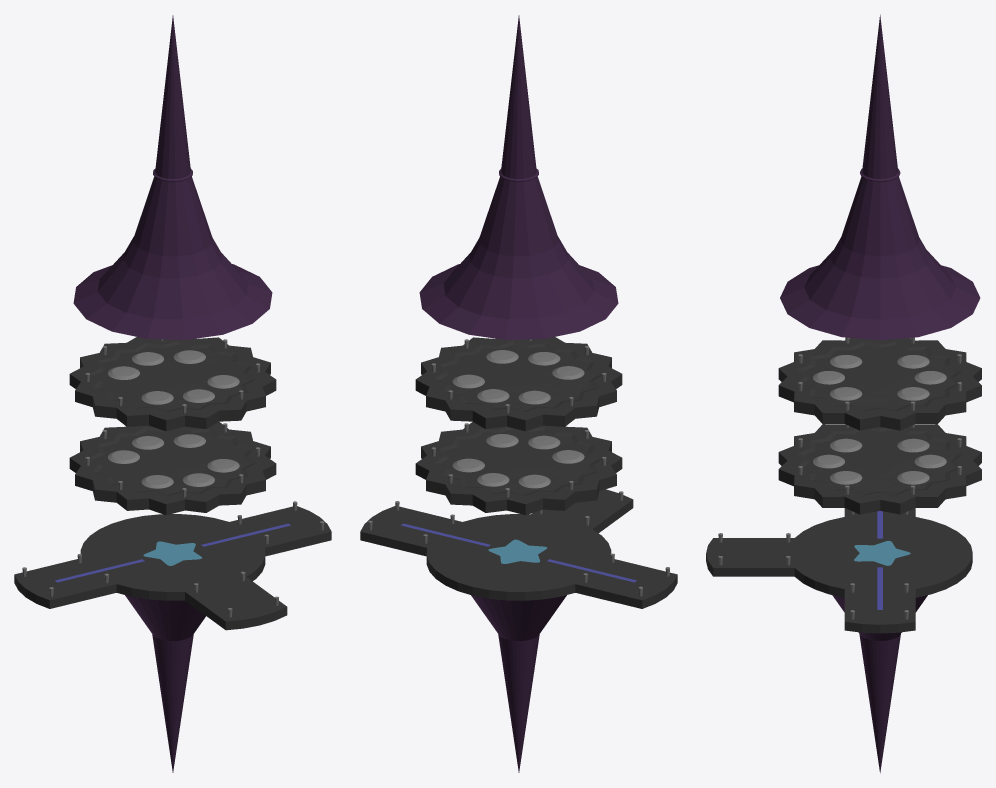
The model's file is MarioFacelessShipPlanet.obj.
3 renders of one model, left to right at view 1: azimuth 30°, elevation 25°; view 2: azimuth 150°, elevation 25°; view 3: azimuth 270°, elevation 25°, orthographic.
Parts seen in each view (by area): view 1: HubworldPlanetNEW_Collision_Circle.000; view 2: HubworldPlanetNEW_Collision_Circle.000; view 3: HubworldPlanetNEW_Collision_Circle.000.
Boxes of the visible parts, bbox=[...] form: HubworldPlanetNEW_Collision_Circle.000: bbox=[14, 15, 331, 772]; HubworldPlanetNEW_Collision_Circle.000: bbox=[360, 15, 677, 772]; HubworldPlanetNEW_Collision_Circle.000: bbox=[706, 14, 981, 773].
Bounding box in the file's own units: 4401 × 10867 × 3572.
